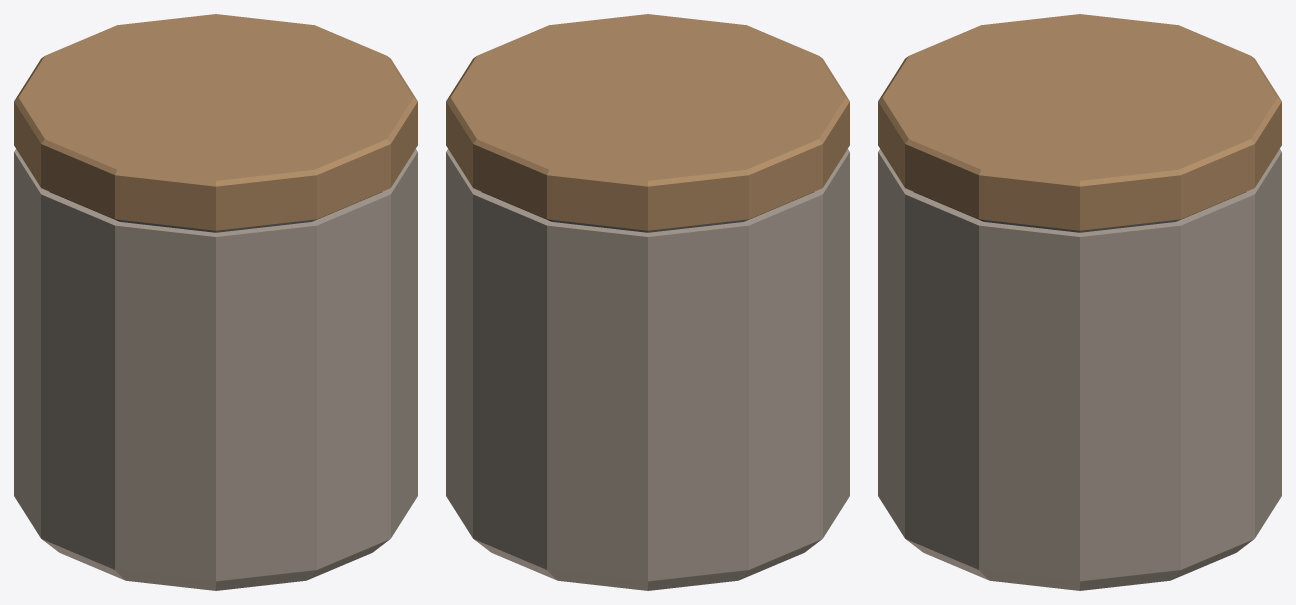
The model's file is KitchenProps_23.fbx.
3 renders of one model, left to right at view 1: azimuth 30°, elevation 25°; view 2: azimuth 150°, elevation 25°; view 3: azimuth 270°, elevation 25°, orthographic.
Parts seen in each view (by area): view 1: KitchenProps_23; view 2: KitchenProps_23; view 3: KitchenProps_23.
Boxes of the visible parts, bbox=[...] form: KitchenProps_23: bbox=[14, 14, 417, 590]; KitchenProps_23: bbox=[446, 14, 849, 590]; KitchenProps_23: bbox=[878, 14, 1281, 590].
Size of the model in its own units: 9.62 by 10.97 by 9.62.
